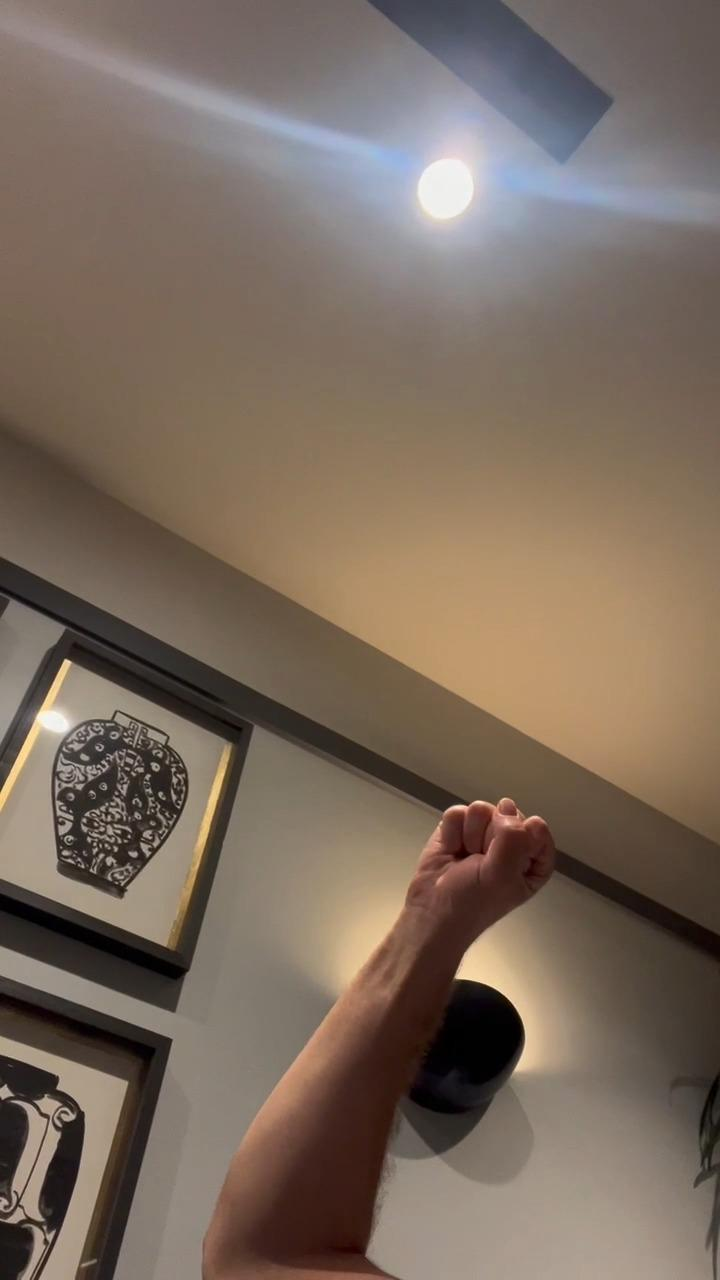Rock: (408, 793, 562, 934)
